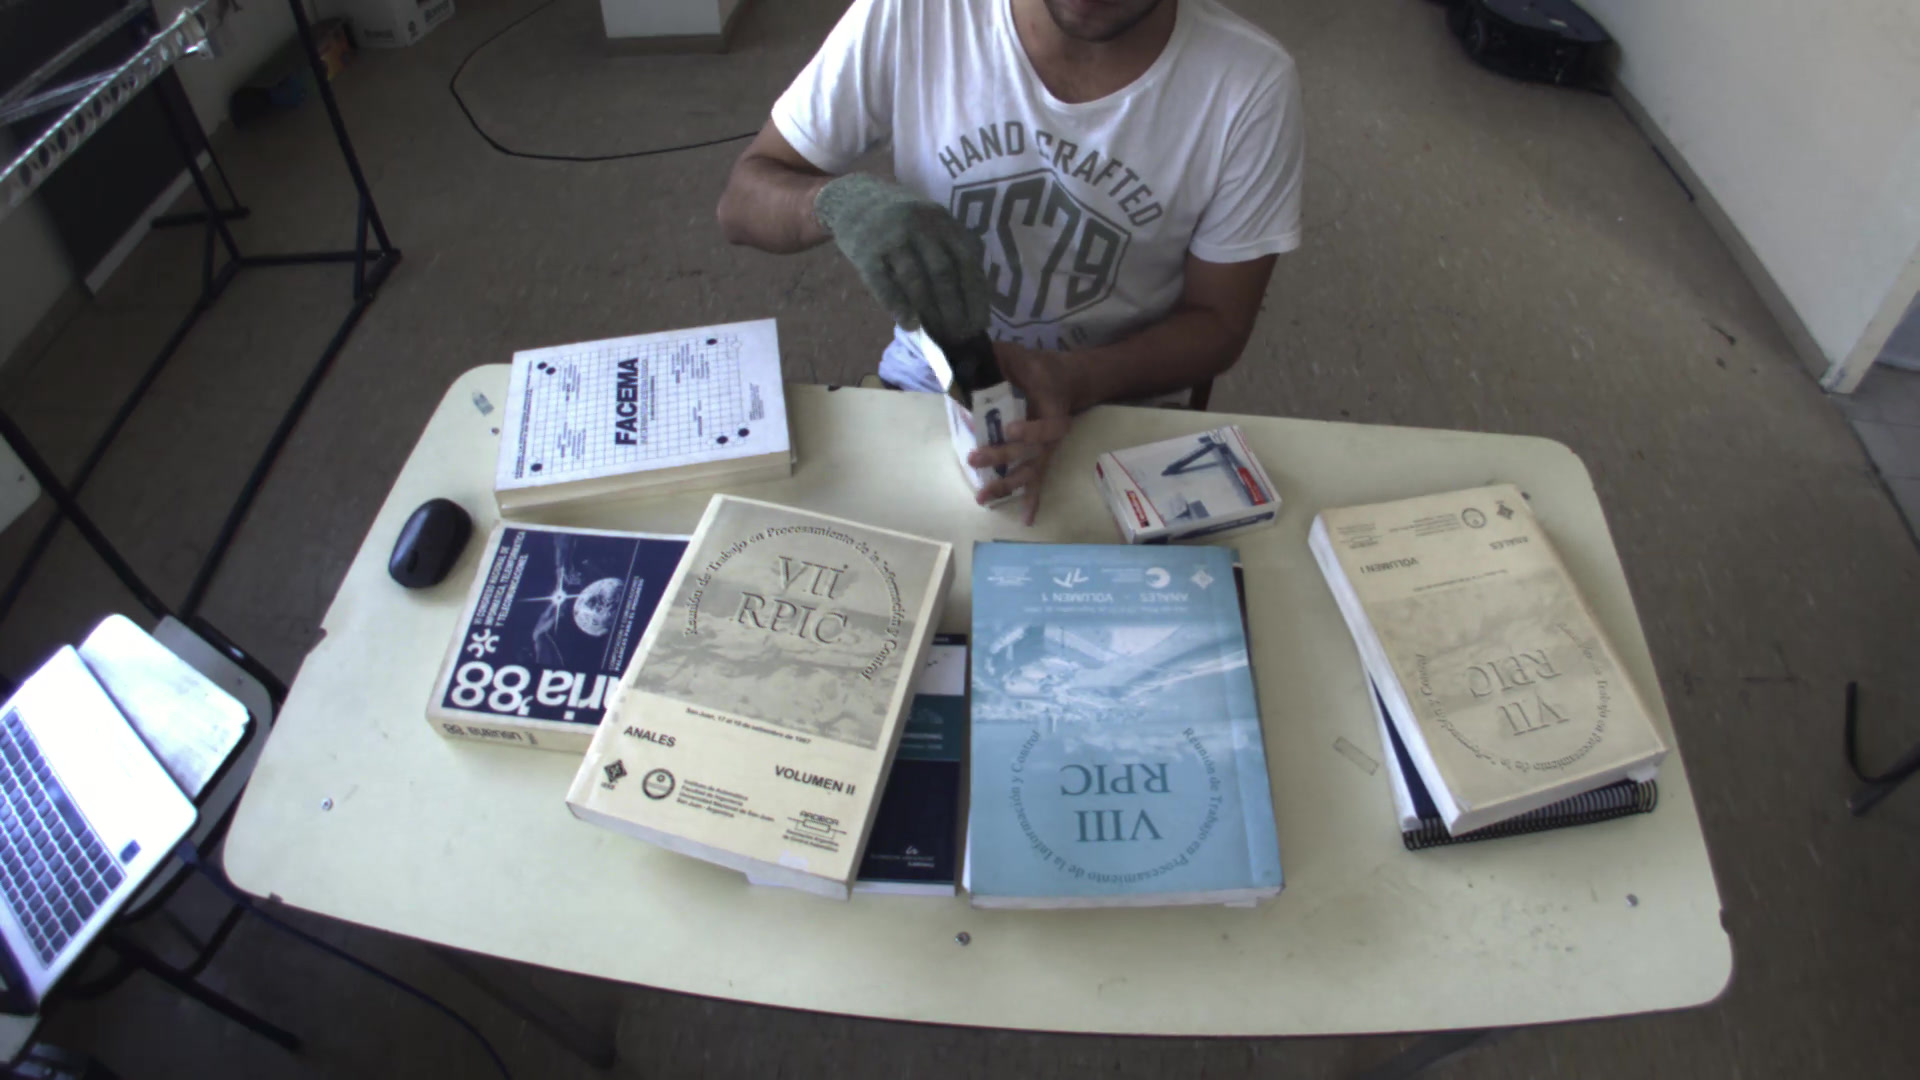hand: (803, 169, 998, 336), (949, 398, 1084, 527)
